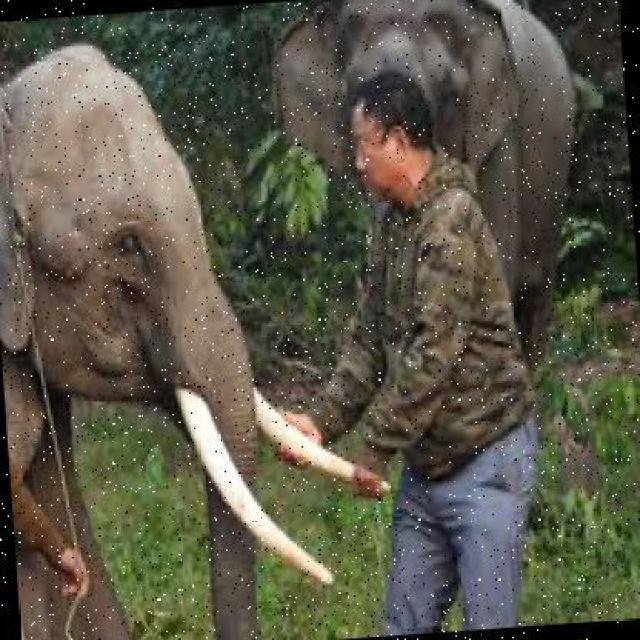p_time: (2, 38, 350, 600), (266, 2, 583, 122), (431, 8, 584, 186)
poacher: (331, 68, 500, 628)
